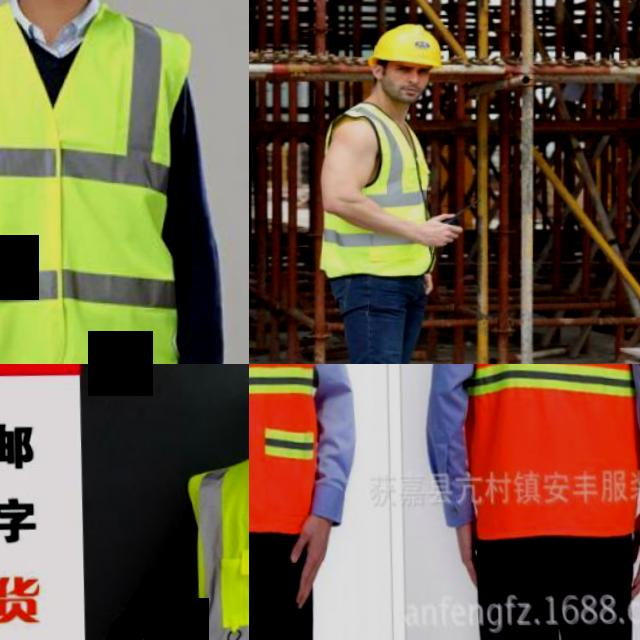vest: (0, 0, 186, 364), (462, 364, 640, 539), (326, 97, 433, 276)
